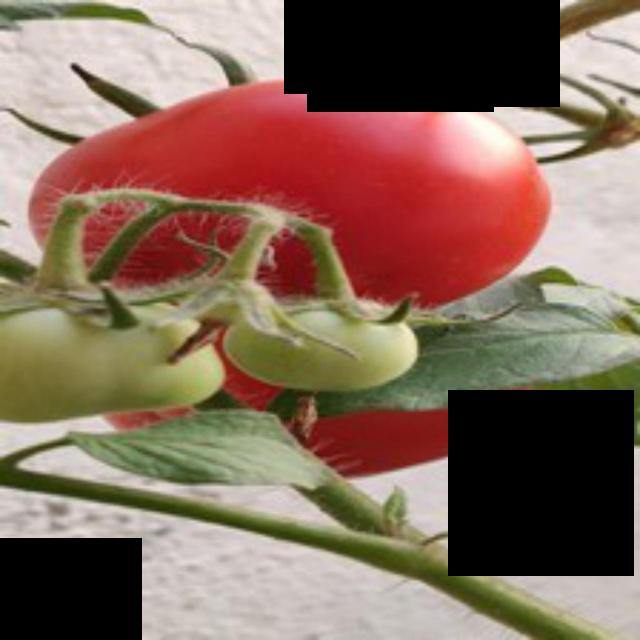tomato: (19, 68, 561, 328)
